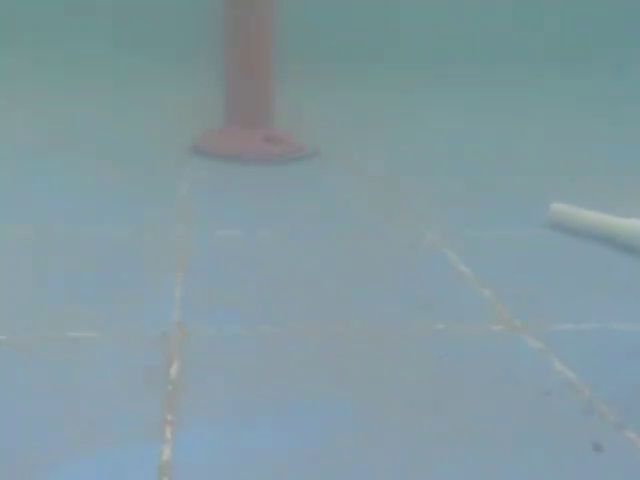flare: (178, 0, 320, 172)
